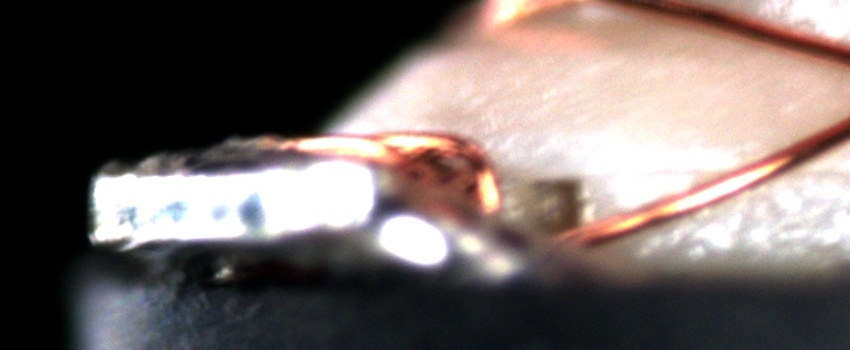DL: (584, 157, 732, 195)
TE: (277, 123, 506, 220)
